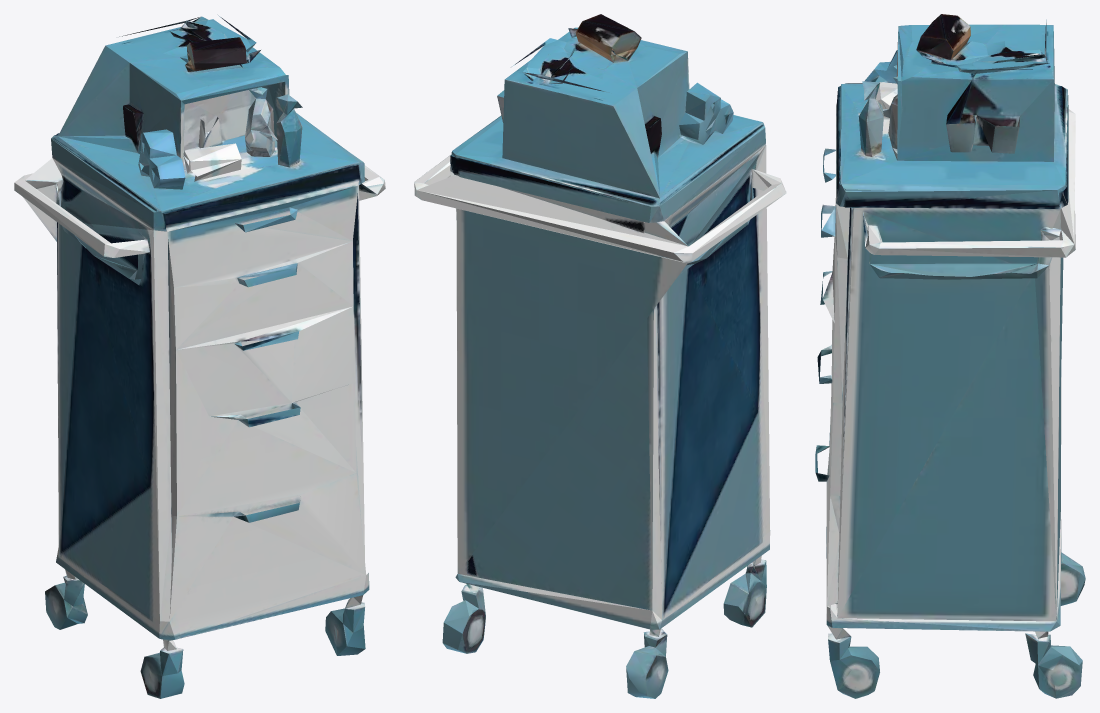
File: medical_cart.glb
3 views of the same model, side by side, from view 1: azimuth 30°, elevation 25°; view 2: azimuth 150°, elevation 25°; view 3: azimuth 270°, elevation 25° (orthographic). The views are drawn at different scales.
Bounding box in the file's own units: 0.927 × 1.89 × 0.7418.
Materials: 1 (1 with a texture image).
